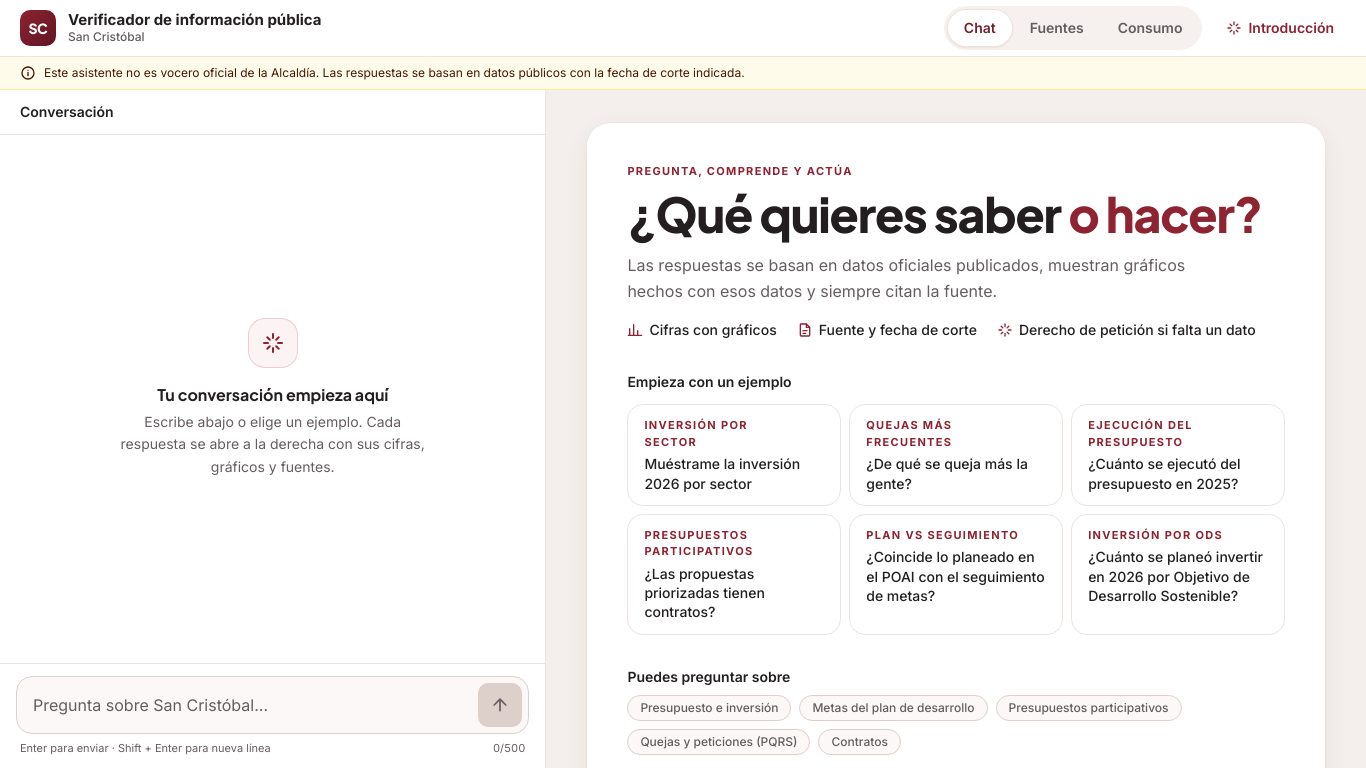
it: Chat workspace on desktop › shows the question with a skeleton while loading, then the answer in the panel
Later steps or results of the test are not shown.
Type "¿Cuánto se ejecutó?" into the text box named "Escribe tu pregunta". click: (252, 704)
box: [33,682,470,726]
Then press Enter
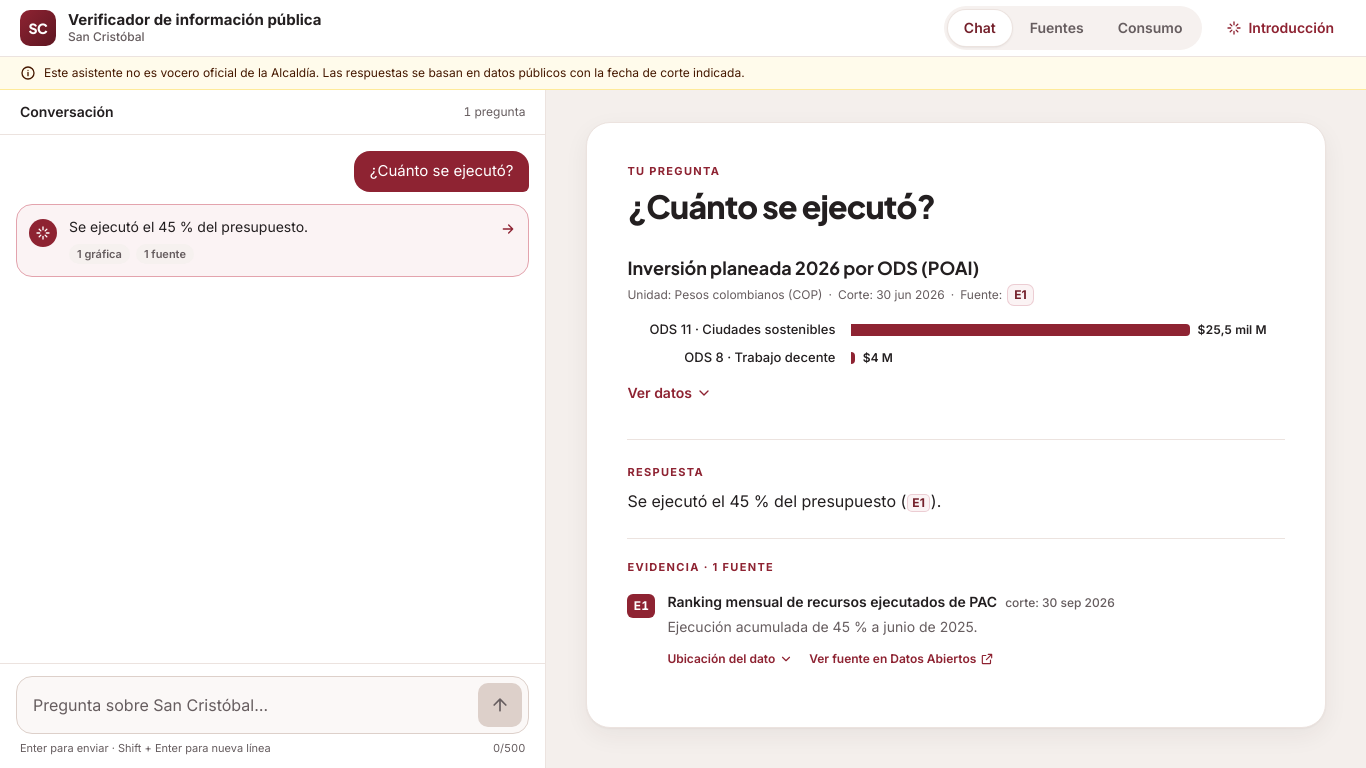
Expected: the element "Inversión planeada 2026 por ODS (POAI)" is shown, [627,256,1285,415]
Expected: the element "Ranking mensual de recursos ejecutados de PAC" is shown, [627,593,1115,673]
Expected: the text "Se ejecutó el 45 % del presupuesto ( E1 )." is shown, [627,491,941,511]
